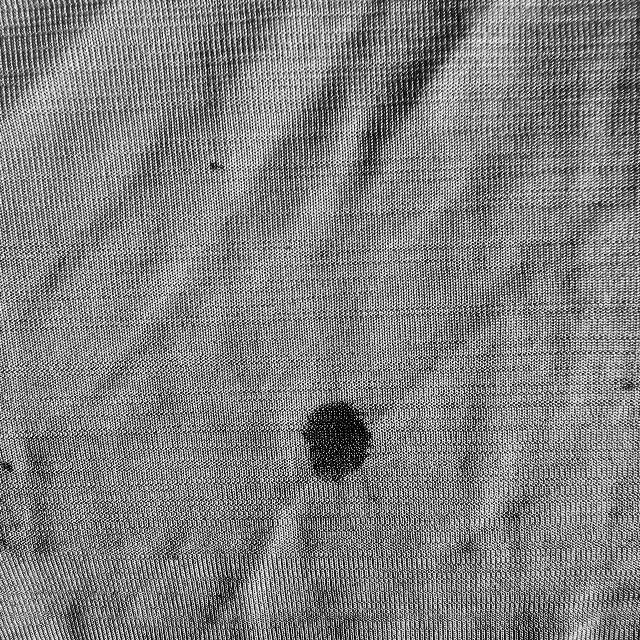Color_defect: (286, 395, 384, 480)
